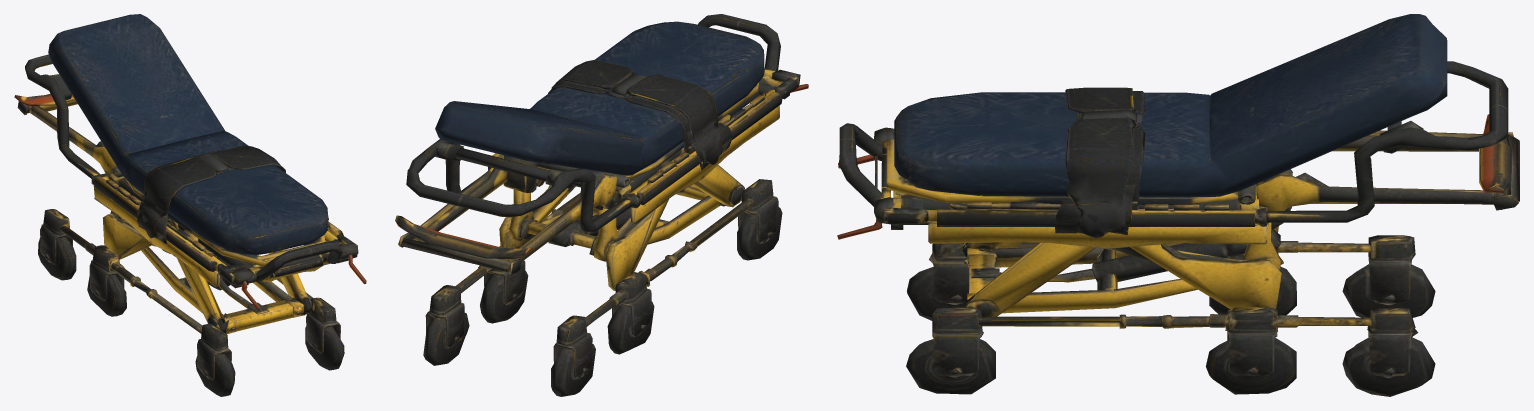
Rendered from p7-wheeled-stretcher-t25.glb.
3 renders of one model, left to right at view 1: azimuth 30°, elevation 25°; view 2: azimuth 150°, elevation 25°; view 3: azimuth 270°, elevation 25°, orthographic. The views are drawn at different scales.
Visible parts, largest first — view 1: p7-wheeled-stretcher-t25; view 2: p7-wheeled-stretcher-t25; view 3: p7-wheeled-stretcher-t25.
Part boxes in pixels (x1,y1,x2,y2): p7-wheeled-stretcher-t25: (14, 14, 366, 396); p7-wheeled-stretcher-t25: (395, 14, 808, 396); p7-wheeled-stretcher-t25: (837, 14, 1519, 396).
Size of the model in its own units: 0.6 by 0.95 by 1.84.
1 material, 1 textured.
